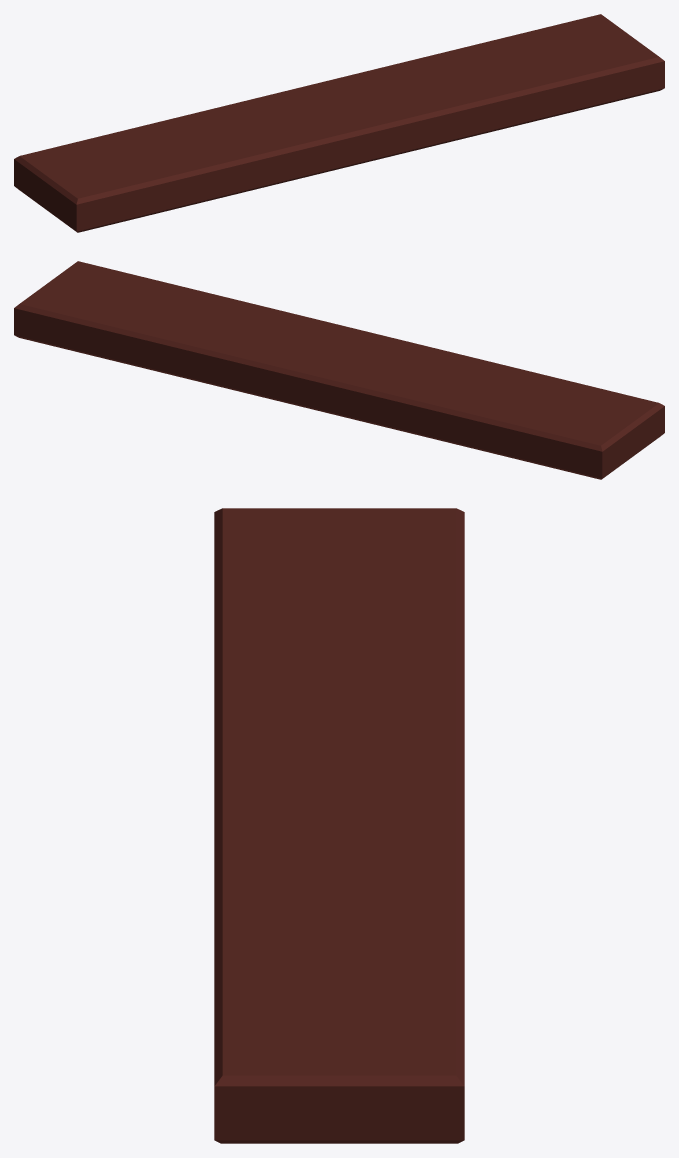
Rendered from estante suelto.fbx.
3 views of the same model, one above another, from view 1: azimuth 30°, elevation 25°; view 2: azimuth 150°, elevation 25°; view 3: azimuth 270°, elevation 25° (orthographic). The views are drawn at different scales.
Parts seen in each view (by area): view 1: Cube.002; view 2: Cube.002; view 3: Cube.002.
Boxes of the visible parts, box(x1,y1,x2,y2) form: Cube.002: box(14, 14, 664, 232); Cube.002: box(14, 261, 664, 479); Cube.002: box(214, 508, 464, 1143).
Bounding box in the file's own units: 200 × 10.97 × 36.79.
